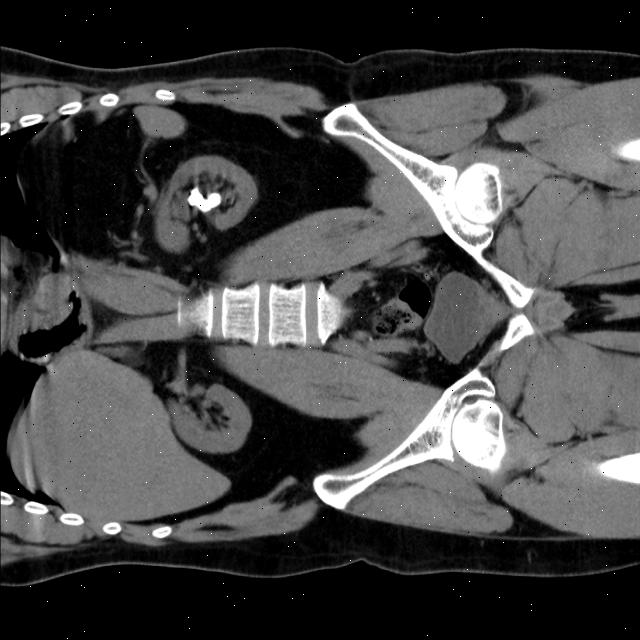kidneystone: (188, 187, 221, 211)
